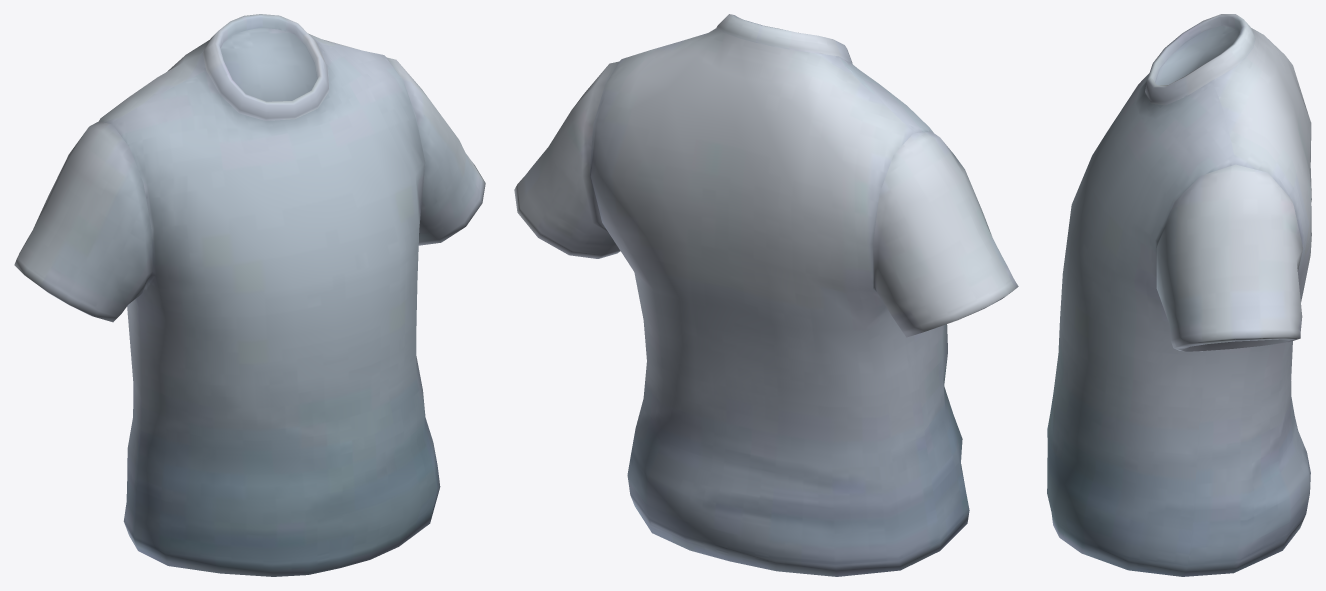
The model's file is body1.glb.
3 renders of one model, left to right at view 1: azimuth 30°, elevation 25°; view 2: azimuth 150°, elevation 25°; view 3: azimuth 270°, elevation 25°, orthographic. The views are drawn at different scales.
Parts seen in each view (by area): view 1: Wolf3D_Outfit_Top.001; view 2: Wolf3D_Outfit_Top.001; view 3: Wolf3D_Outfit_Top.001.
Boxes of the visible parts, left/top/right/bottom form: Wolf3D_Outfit_Top.001: left=14, top=14, right=485, bottom=576; Wolf3D_Outfit_Top.001: left=514, top=14, right=1018, bottom=576; Wolf3D_Outfit_Top.001: left=1047, top=14, right=1311, bottom=576.
Bounding box in the file's own units: 0.6183 × 0.6355 × 0.3125.
Materials: 1 (1 with a texture image).
